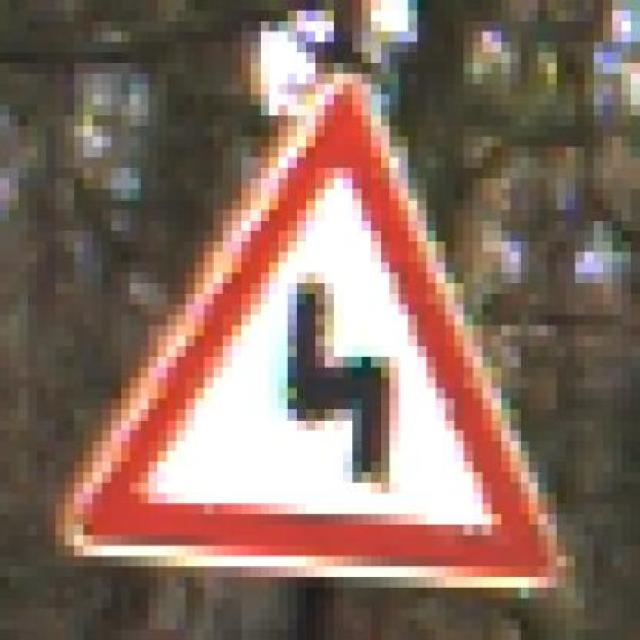Left Zig Zag Traffic: (28, 63, 612, 588)
